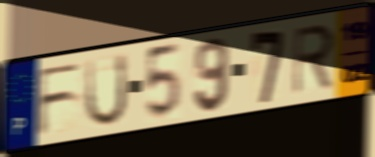5: (143, 39, 184, 123)
7: (250, 29, 285, 106)
9: (193, 35, 232, 115)
F: (35, 59, 85, 139)
R: (291, 21, 337, 98)
U: (83, 50, 129, 129)
